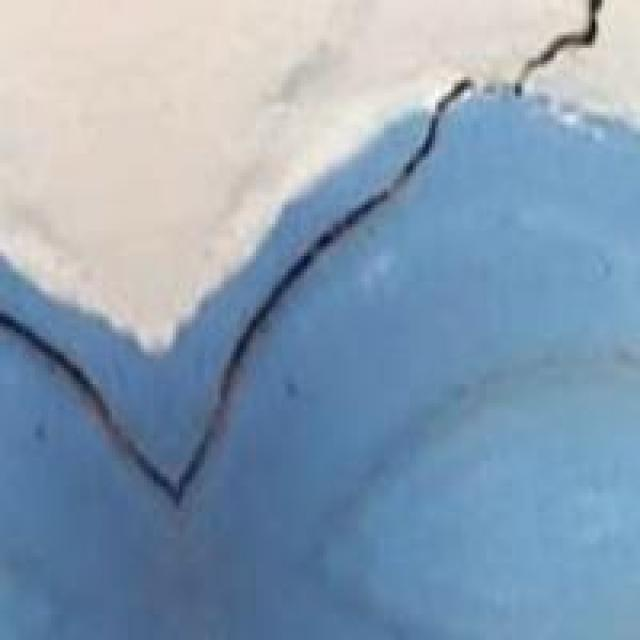crack: (0, 0, 637, 518)
